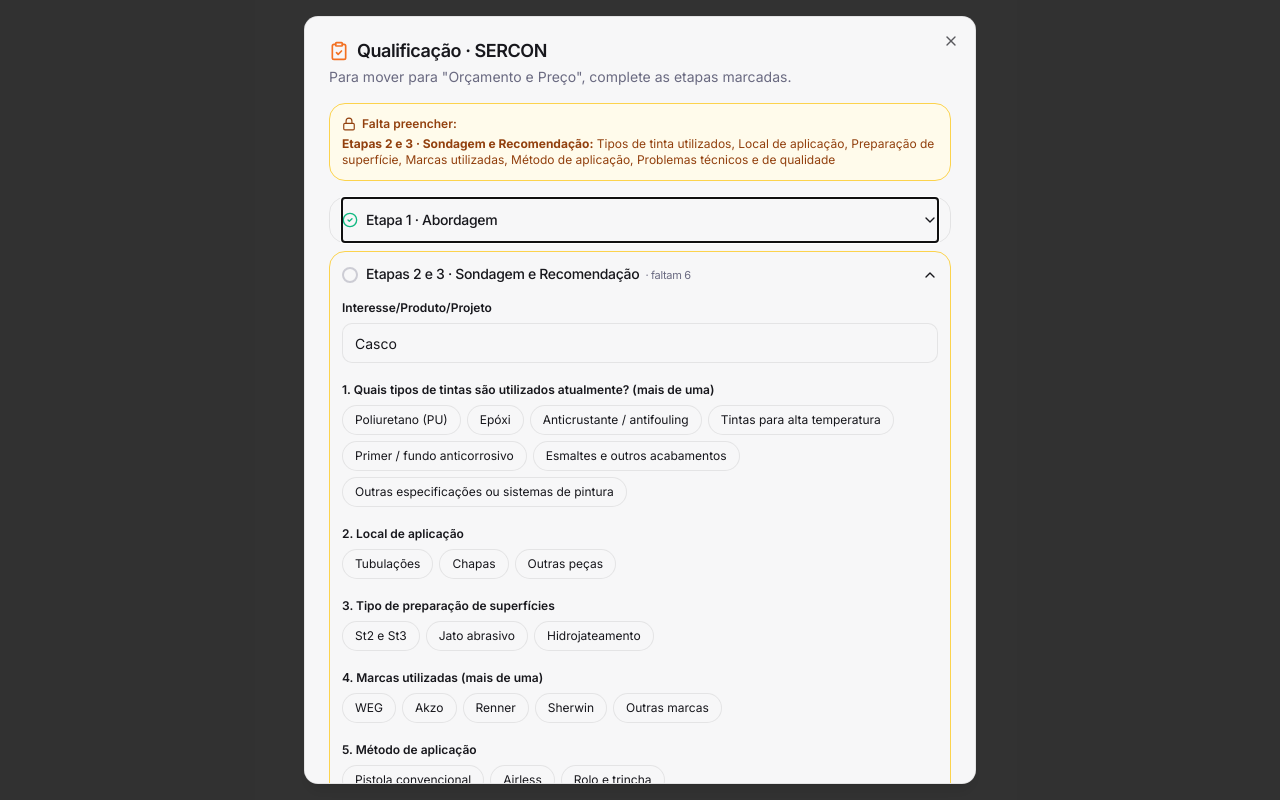
LeadQualificationDialog › asks for the text of an 'other' option
Click the checkbox labelled "Outras marcas". click: (667, 708)
box: [613,693,722,723]
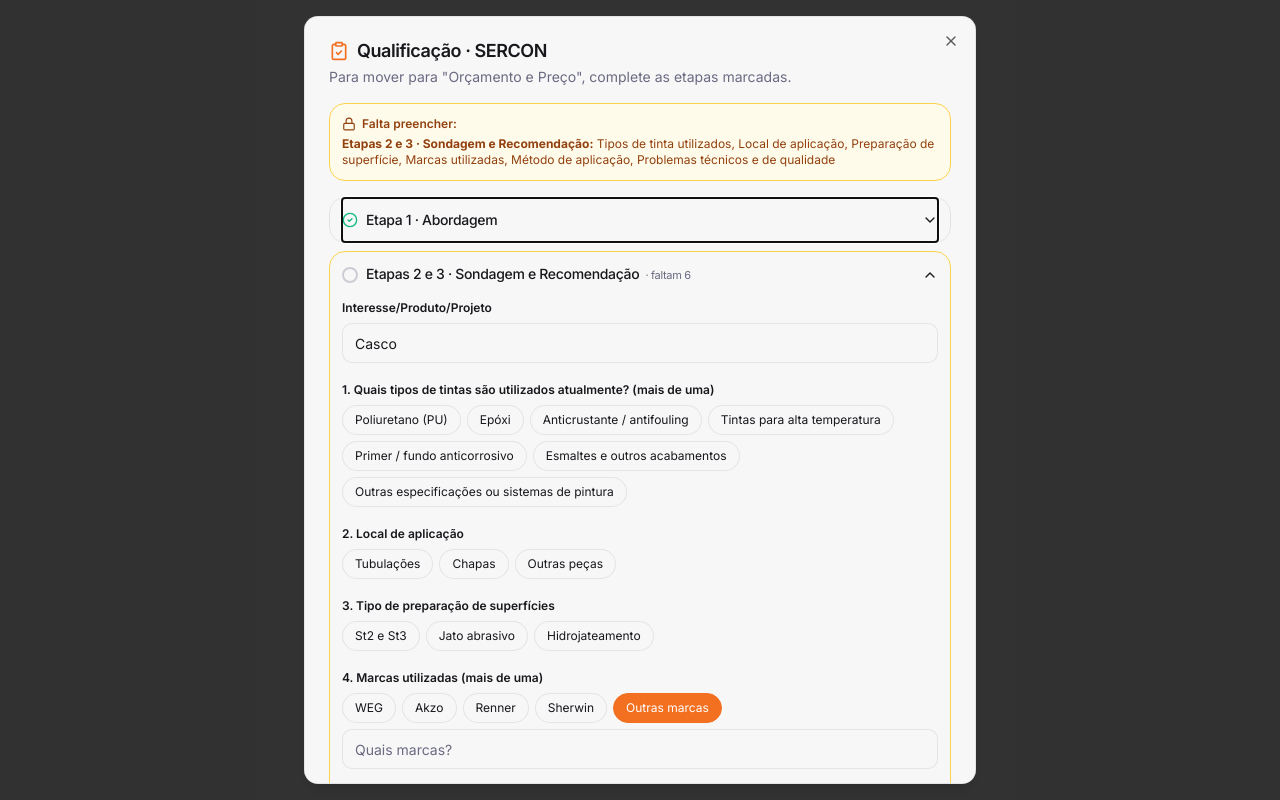
Now the field named "Outras marcas" is shown, box [342,729,938,769]
